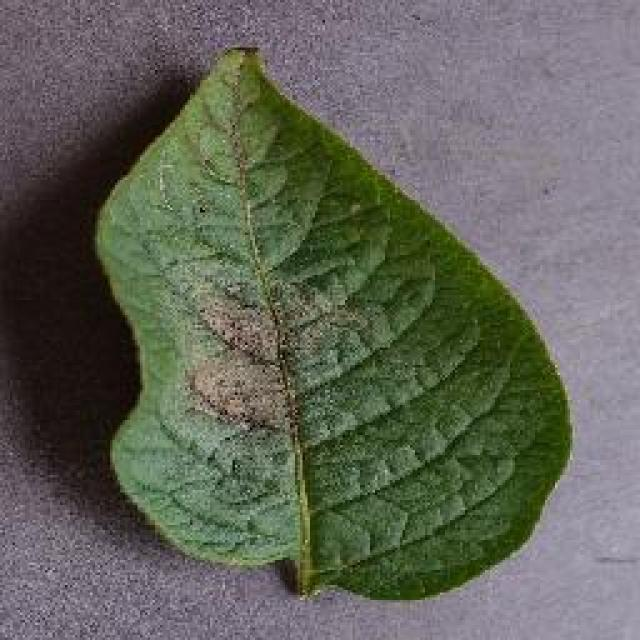late_blight: (90, 40, 575, 605)
